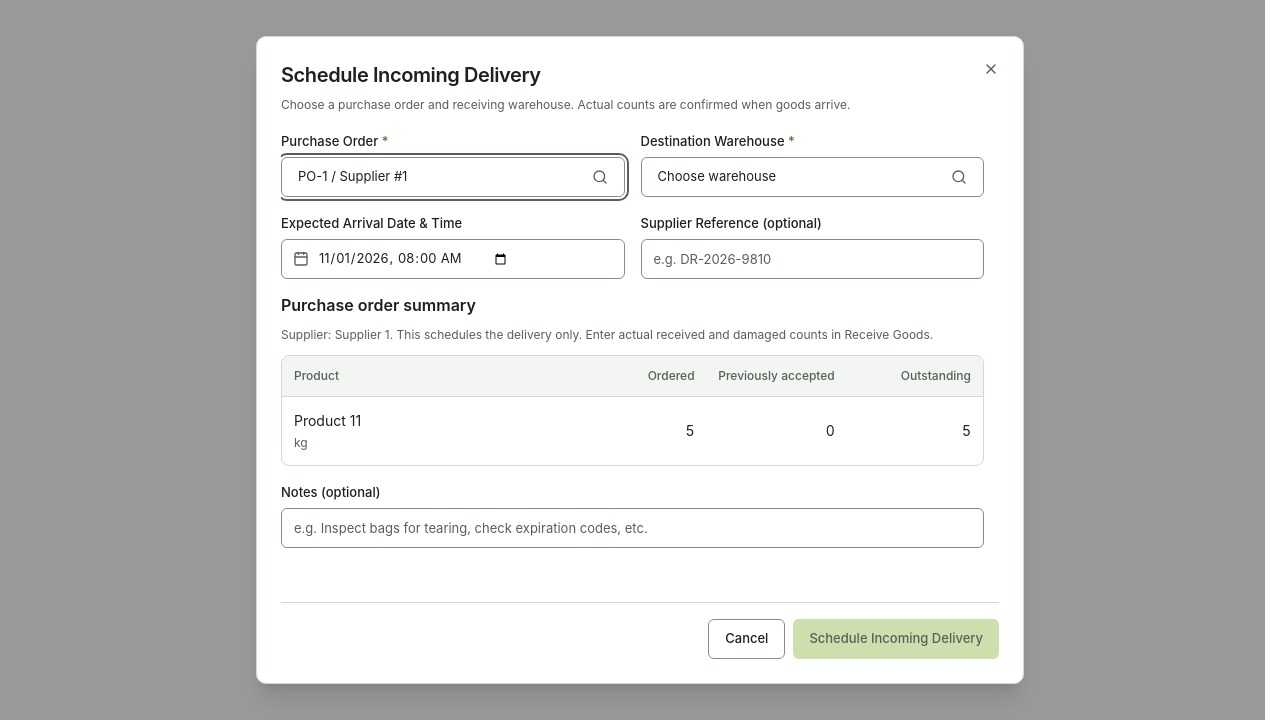
Test: allows changing a failed order selection and clears PO-dependent reference and arrival data
The image size is (1280, 720).
expect the text "Product 11" is shown: met, box [294,412,361,428]
Type "Old supplier reference" into the field labelled "Supplier Reference (optional)" at (812, 259), box [640,239,984,279]
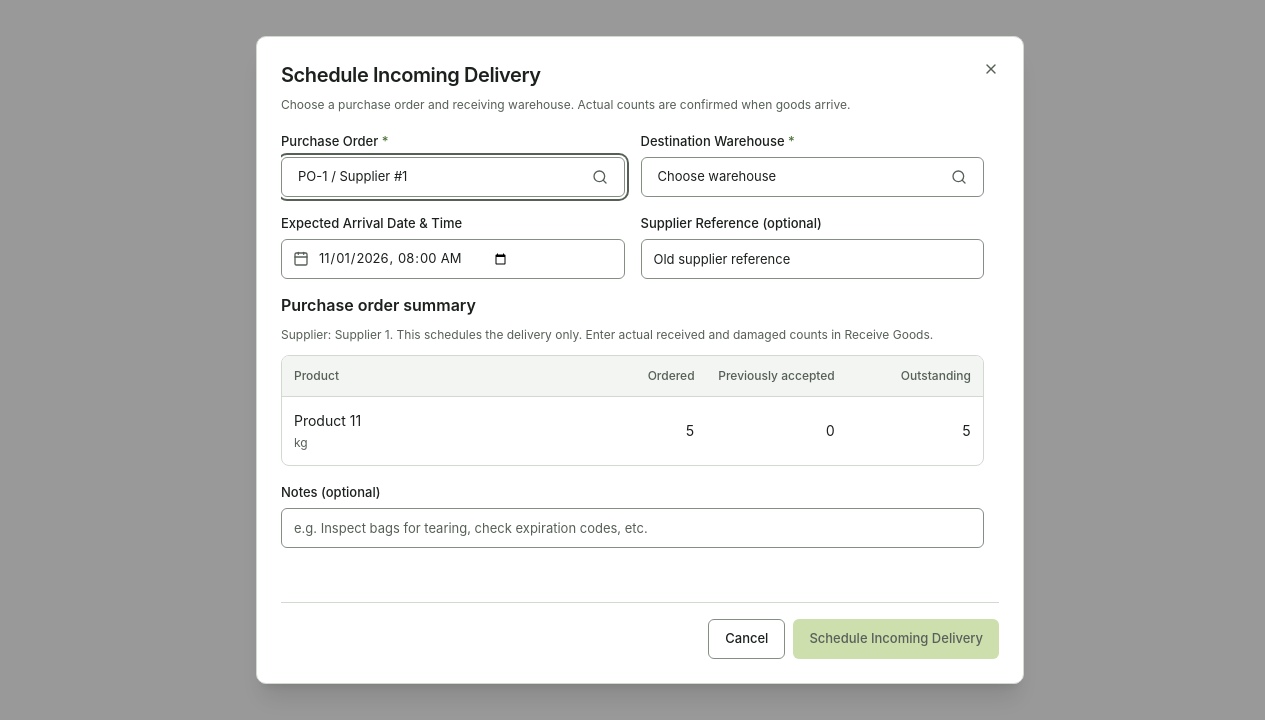
Replace the text in the field labelled "Expected Arrival Date & Time" with "2026-12-01T10:00" at (453, 259), box [281,239,624,279]
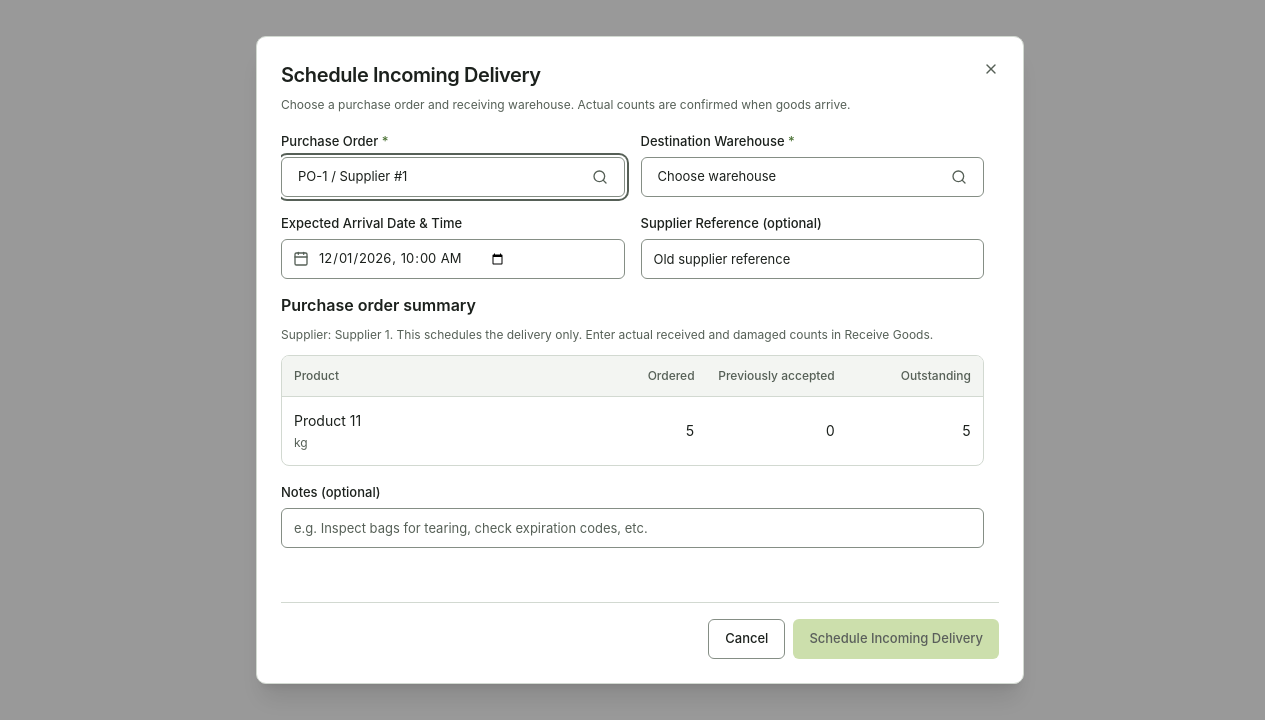
Click the button with aria-label "Purchase Order" at (353, 176), box [281,157,624,197]
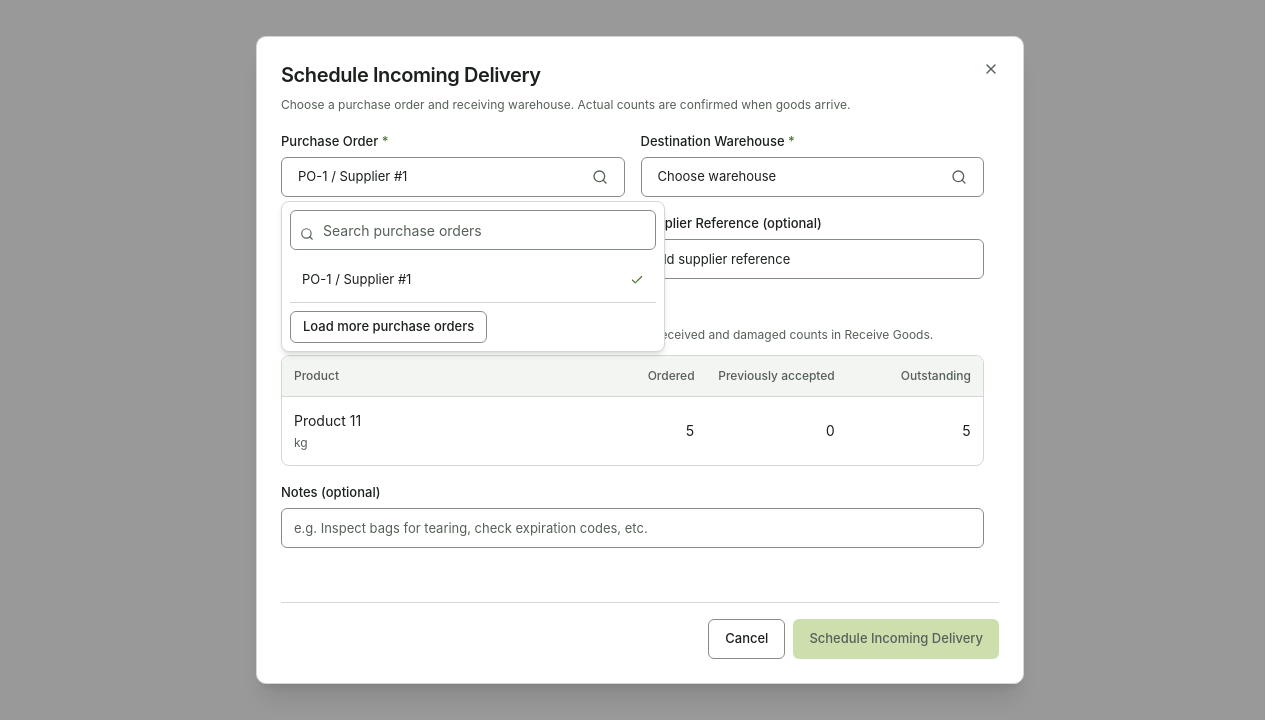
Click the button "Load more purchase orders" at (389, 327), box [290,311,487,343]
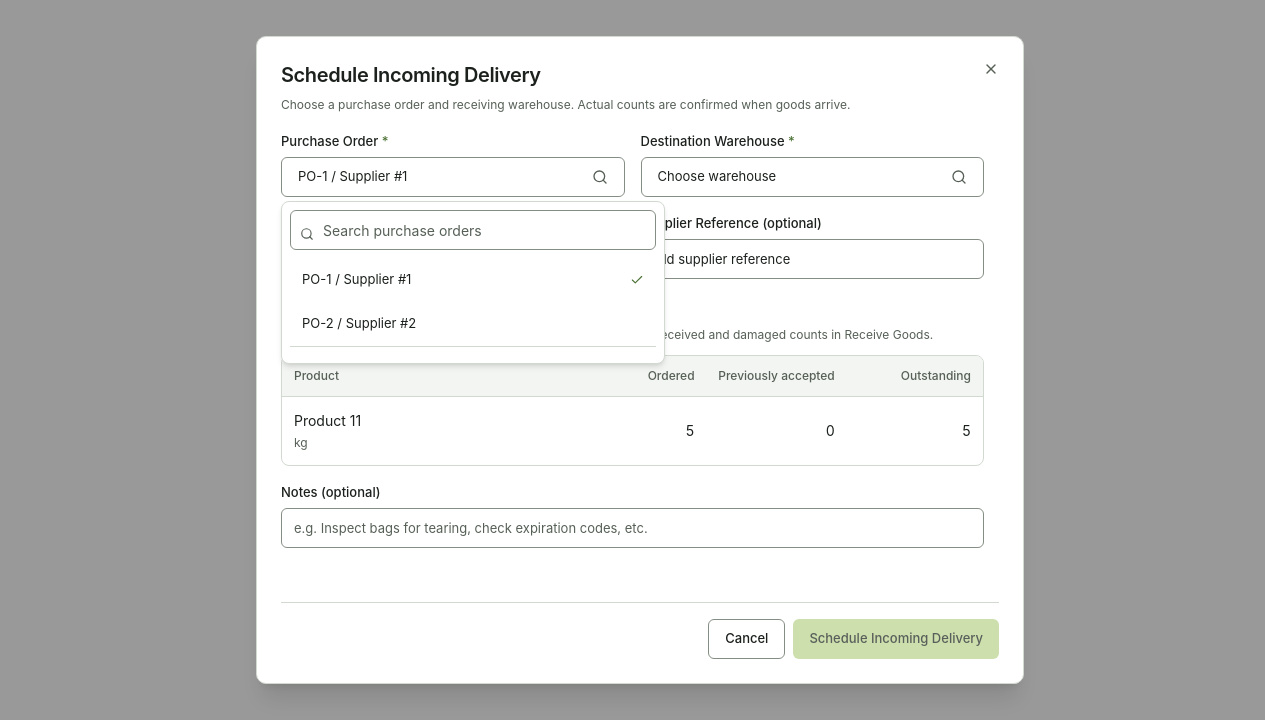
Click the menu item "PO-2 / Supplier #2" at (359, 323), box [302,315,416,331]
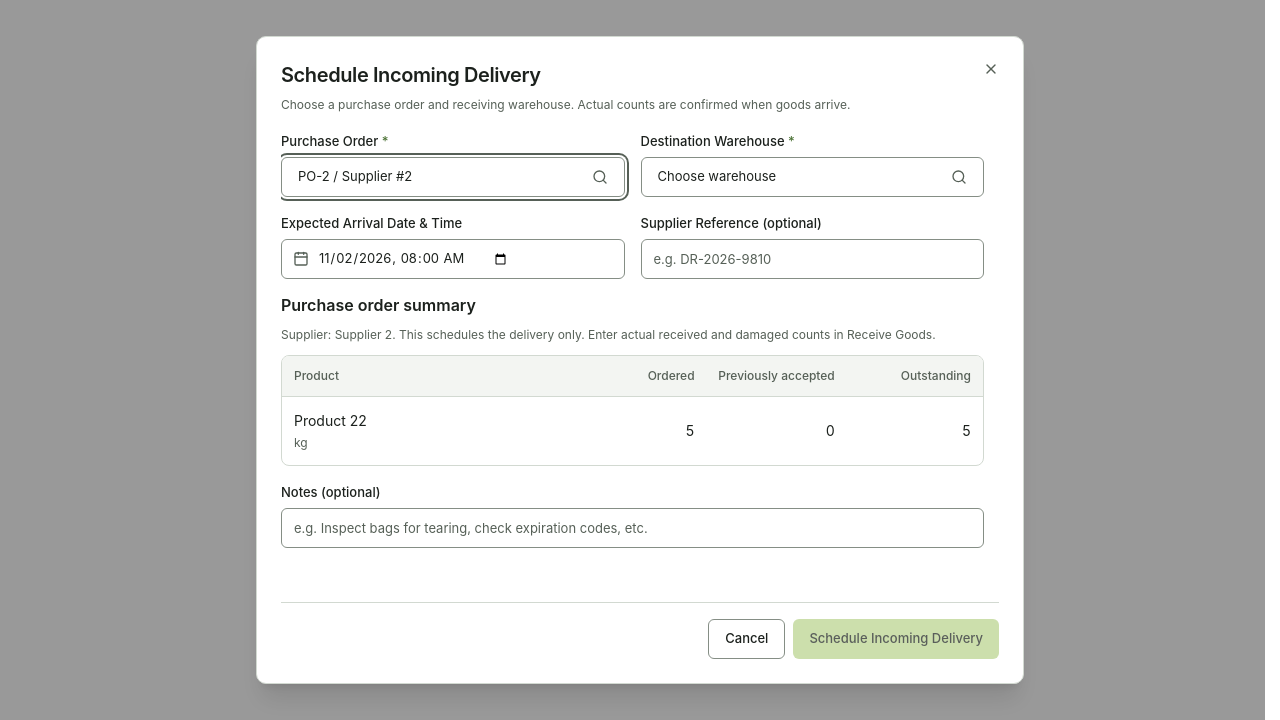
expect the text "Product 22" is shown: met, box [294,412,367,428]
expect the text "Product 11" is gone: met
expect the field labelled "Supplier Reference (optional)" is empty: met, box [640,239,984,279]
